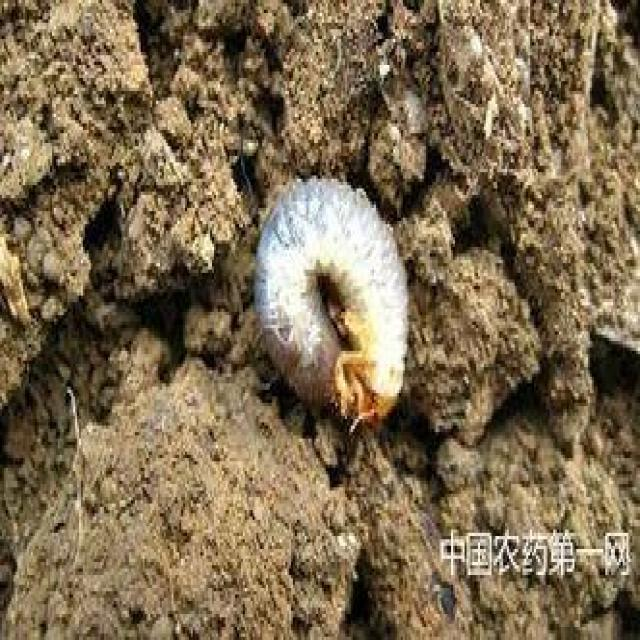Grub-Adult-: (202, 146, 438, 477)
